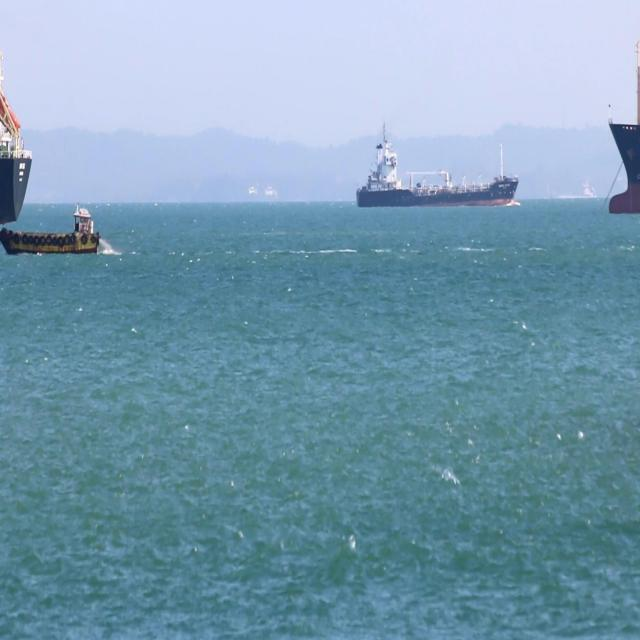CIV_Ship: (356, 119, 520, 210), (607, 44, 640, 218), (0, 204, 102, 256), (0, 94, 30, 226)
